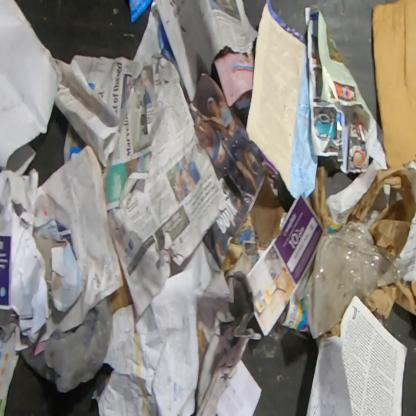cardboard: (194, 239, 264, 415), (11, 208, 86, 346), (371, 0, 415, 171), (249, 175, 286, 246), (361, 279, 415, 320), (112, 262, 133, 314), (220, 242, 245, 272), (322, 323, 340, 339)
rigid_plastic: (294, 220, 409, 340)
soft_plastic: (19, 294, 114, 394)
